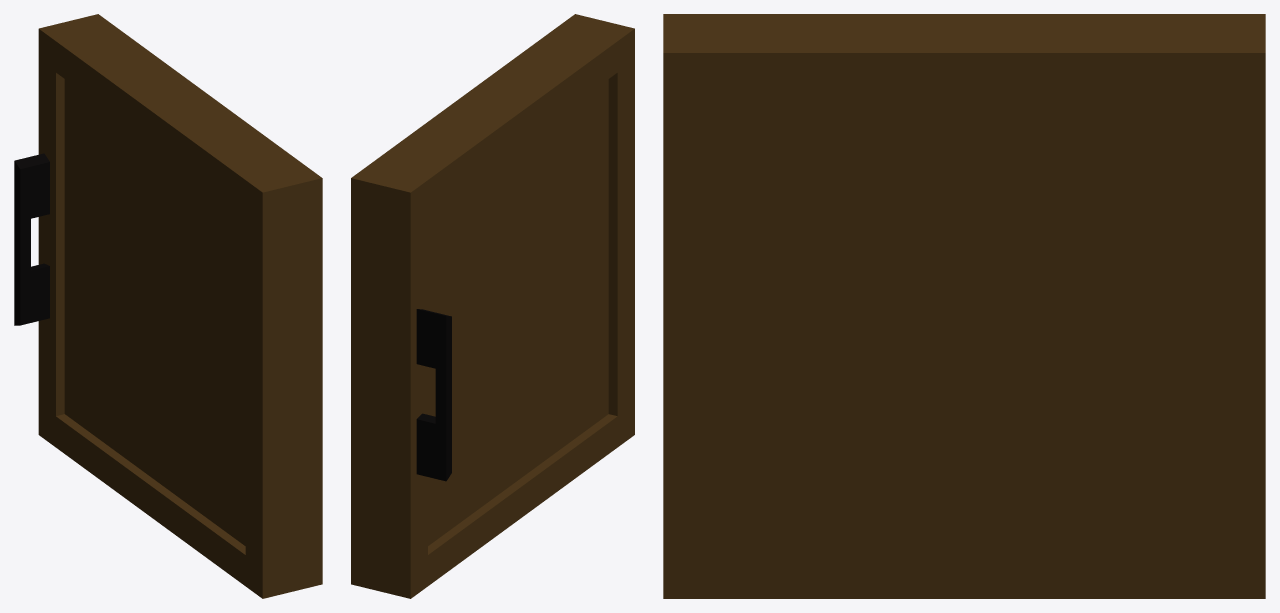
The model's file is L_Winning_ISD1_CabinetDoorRight.fbx.
3 views of the same model, side by side, from view 1: azimuth 30°, elevation 25°; view 2: azimuth 150°, elevation 25°; view 3: azimuth 270°, elevation 25° (orthographic). The views are drawn at different scales.
Parts seen in each view (by area): view 1: right cabinet door; view 2: right cabinet door; view 3: right cabinet door.
Boxes of the visible parts, bbox=[...] form: right cabinet door: bbox=[14, 14, 322, 598]; right cabinet door: bbox=[351, 14, 634, 598]; right cabinet door: bbox=[663, 14, 1265, 598].
Bounding box in the file's own units: 30 × 130 × 130.
